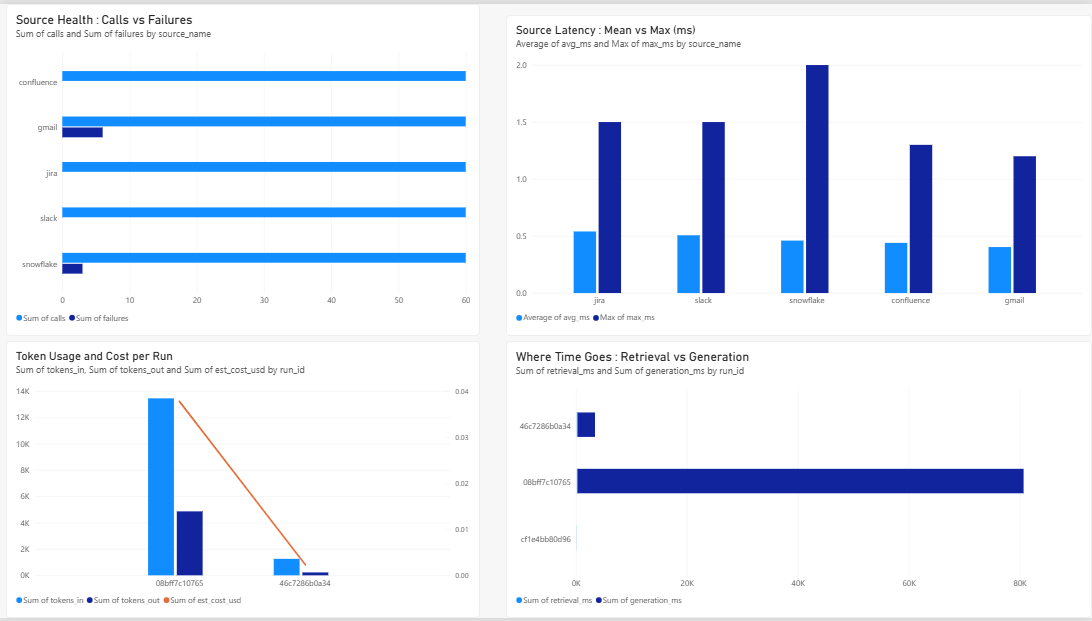

This screenshot's page, from the dashboard's own definition file:
{"tool":"powerbi","page":{"name":"Page 1","canvas":[1920,1080],"ordinal":0},"visuals":[{"type":"clusteredBarChart","title":"Source Health : Calls vs Failures","fields":{"Category":["V_SOURCE_HEALTH.source_name"],"Y":["Sum(V_SOURCE_HEALTH.calls)","Sum(V_SOURCE_HEALTH.failures)"]},"box":[10.7,0,833.3,583.5],"z":0},{"type":"clusteredColumnChart","title":"Source Latency : Mean vs Max (ms)","fields":{"Category":["V_SOURCE_HEALTH.source_name"],"Y":["Avg(V_SOURCE_HEALTH.avg_ms)","Max(V_SOURCE_HEALTH.max_ms)"]},"box":[890.4,19.6,1029.6,563.9],"z":1},{"type":"lineClusteredColumnComboChart","title":"Token Usage and Cost per Run","fields":{"Category":["V_RUN_COST.run_id"],"Y":["Sum(V_RUN_COST.tokens_in)","Sum(V_RUN_COST.tokens_out)"],"Y2":["Sum(V_RUN_COST.est_cost_usd)"]},"box":[11,593,833,487],"z":2},{"type":"barChart","title":"Where Time Goes : Retrieval vs Generation","fields":{"Category":["V_TIME_SPLIT.run_id"],"Y":["Sum(V_TIME_SPLIT.retrieval_ms)","Sum(V_TIME_SPLIT.generation_ms)"]},"box":[890,593,1030,487],"z":3}]}

Visuals, with their boxes in screenshot pixels (x1, y1, x2, y2), scaled from the page's 1920x1080 canvas onto the 1092x621 screenshot:
"Source Health : Calls vs Failures" clusteredBarChart: 6,0,480,336
"Source Latency : Mean vs Max (ms)" clusteredColumnChart: 506,11,1091,336
"Token Usage and Cost per Run" lineClusteredColumnComboChart: 6,341,480,620
"Where Time Goes : Retrieval vs Generation" barChart: 506,341,1091,620
